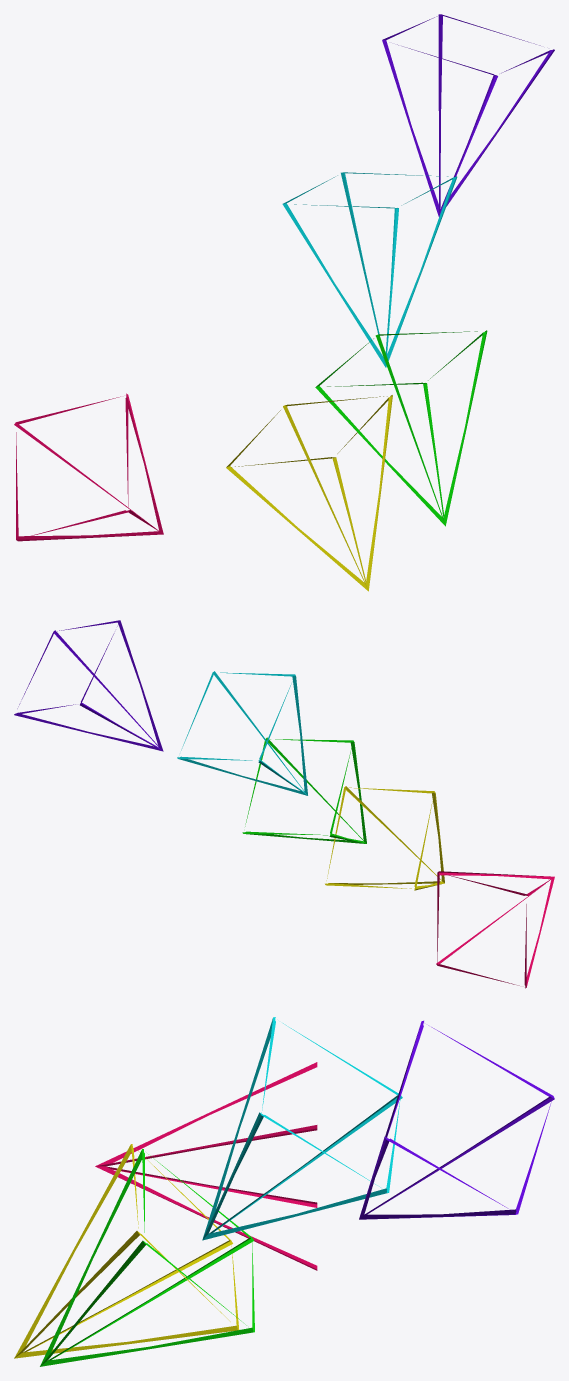
The model's file is wrist_video_40.glb.
3 renders of one model, top to bottom at view 1: azimuth 30°, elevation 25°; view 2: azimuth 150°, elevation 25°; view 3: azimuth 270°, elevation 25°, orthographic. The views are drawn at different scales.
Parts seen in each view (by area): view 1: world; view 2: world; view 3: world.
Part boxes in pixels (x1=…): world: x1=14, y1=14, x2=554, y2=591; world: x1=14, y1=620, x2=554, y2=988; world: x1=14, y1=1017, x2=554, y2=1366.
Size of the model in its own units: 0.5183 by 0.3441 by 0.3515.
